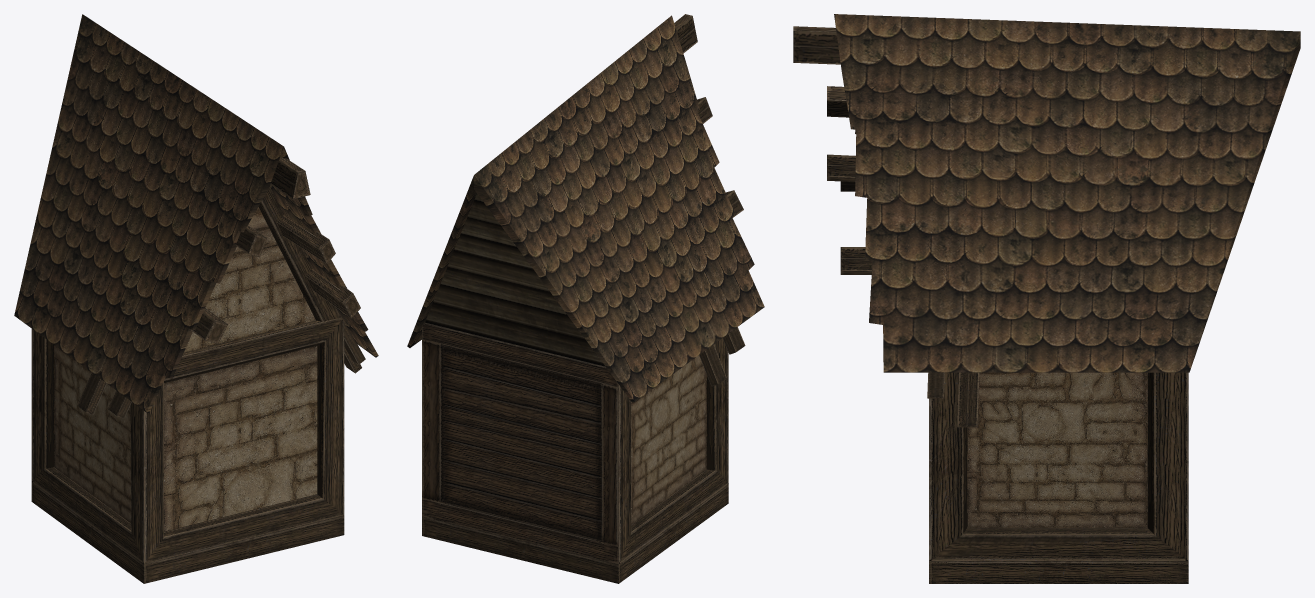
Rendered from Window_b01.fbx.
The picture shows the model from 3 angles, left to right: view 1: azimuth 30°, elevation 25°; view 2: azimuth 150°, elevation 25°; view 3: azimuth 270°, elevation 25°; orthographic projection. The views are drawn at different scales.
Parts seen in each view (by area): view 1: Window_b01; view 2: Window_b01; view 3: Window_b01.
Part boxes in pixels (x1,y1,x2,y2): Window_b01: [14, 14, 378, 583]; Window_b01: [407, 14, 764, 583]; Window_b01: [793, 14, 1300, 583].
Bounding box in the file's own units: 3.82 × 6.25 × 5.61.
